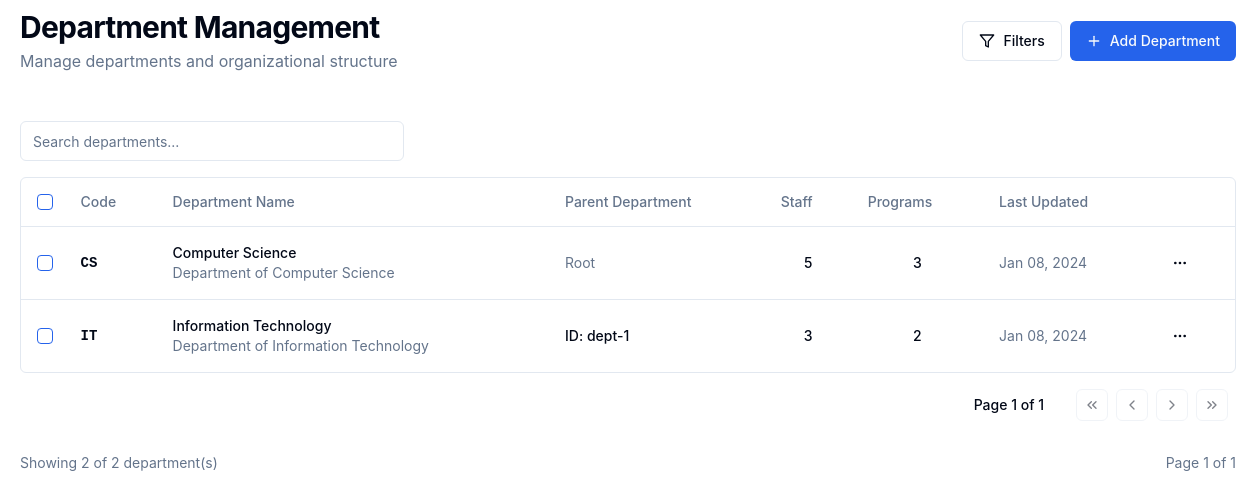
Test: DepartmentManagementPage › Search and Filter › should search departments by name
The image size is (1253, 488).
Expected: the text "Computer Science" is shown, 173,244 -> 296,260
In the field with placeholder "Search departments...": coordinates (212, 141) 20,121 -> 404,161, type "Information"
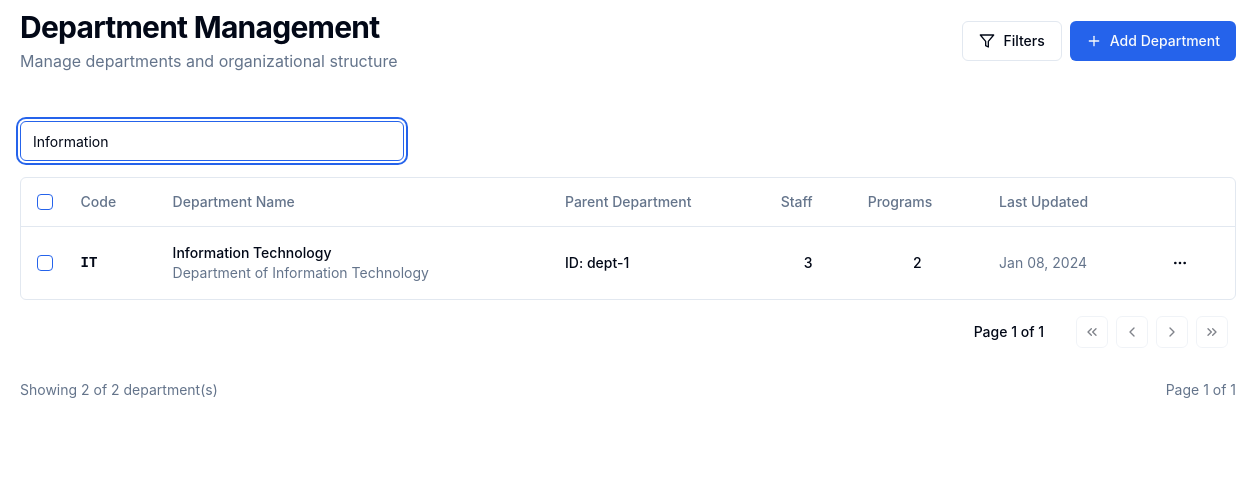
Expected: the text "Information Technology" is shown, 173,244 -> 332,260
Expected: the text "Computer Science" is gone
